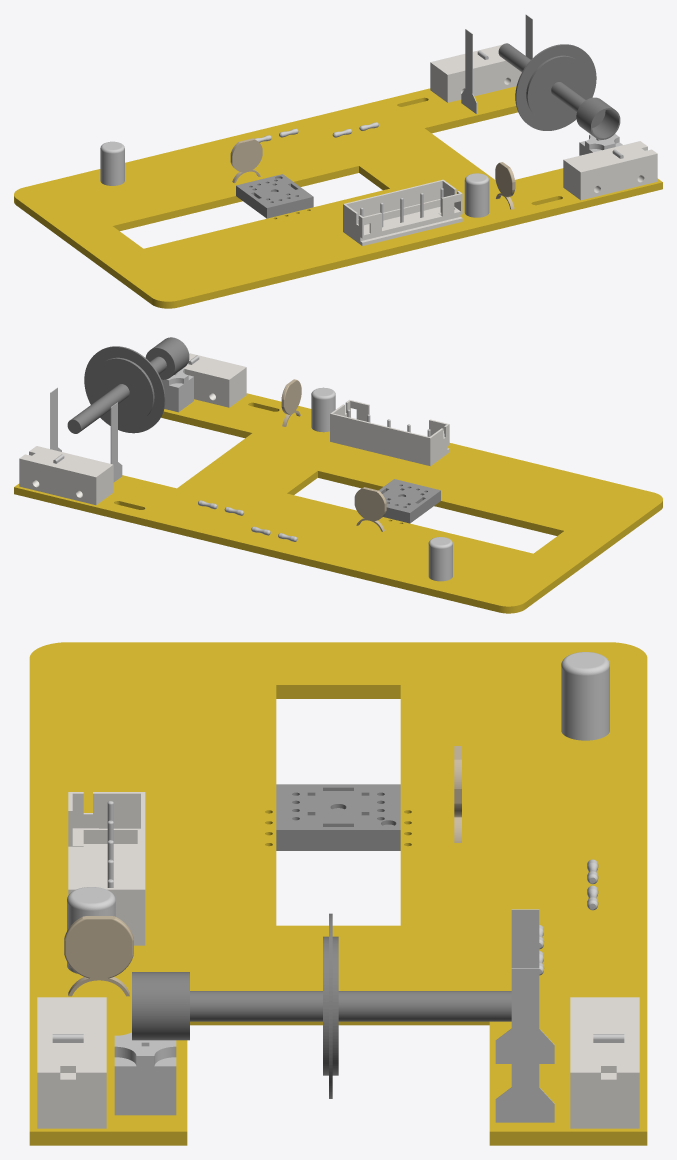
File: Mouse circuit.glb
3 renders of one model, top to bottom at view 1: azimuth 30°, elevation 25°; view 2: azimuth 150°, elevation 25°; view 3: azimuth 270°, elevation 25°, orthographic. The views are drawn at different scales.
Visible parts, largest first — view 1: Node1, Node2, Node6, Node3, Node5, Node4; view 2: Node1, Node2, Node6, Node3, Node5, Node4; view 3: Node1, Node2, Node3, Node6, Node5, Node4.
Part boxes in pixels (x1=…): Node1: x1=14, y1=86, x2=662, y2=308; Node2: x1=343, y1=44, x2=657, y2=245; Node6: x1=498, y1=43, x2=620, y2=139; Node3: x1=100, y1=14, x2=623, y2=227; Node5: x1=236, y1=174, x2=313, y2=218; Node4: x1=230, y1=138, x2=515, y2=209; Node1: x1=14, y1=393, x2=662, y2=613; Node2: x1=19, y1=353, x2=449, y2=505; Node6: x1=67, y1=337, x2=189, y2=433; Node3: x1=50, y1=355, x2=452, y2=581; Node5: x1=378, y1=479, x2=440, y2=523; Node4: x1=281, y1=379, x2=386, y2=531; Node1: x1=29, y1=642, x2=647, y2=1145; Node2: x1=37, y1=792, x2=639, y2=1128; Node3: x1=52, y1=652, x2=624, y2=1122; Node6: x1=132, y1=913, x2=511, y2=1098; Node5: x1=276, y1=784, x2=400, y2=850; Node4: x1=64, y1=746, x2=461, y2=996.
Bounding box in the file's own units: 92.81 × 16.73 × 48.69.
